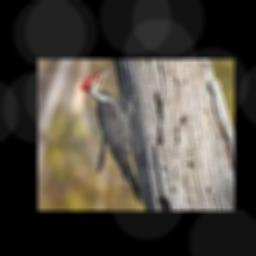Woodpecker: (80, 65, 144, 205)
